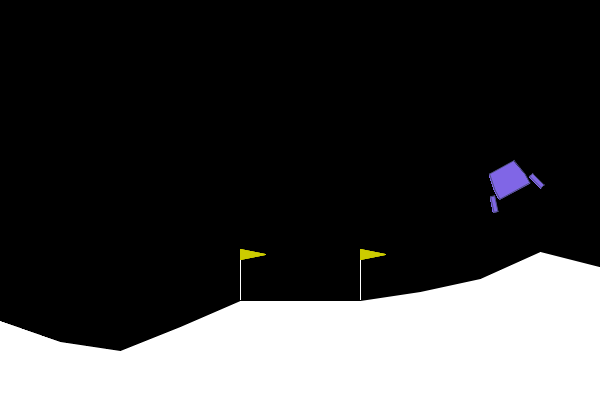lander: (474, 151, 546, 215)
